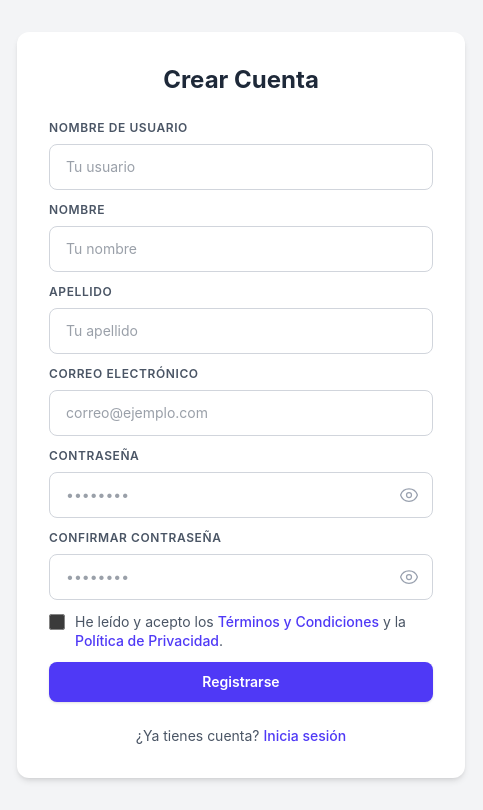
Test case: RegisterPage › exige aceptar los terminos para registrarse
Type "pepin" into the field labelled "Nombre de usuario" at (241, 167), box [49,144,433,190]
Type "Pepe" into the field labelled "Nombre" at (241, 249), box [49,226,433,272]
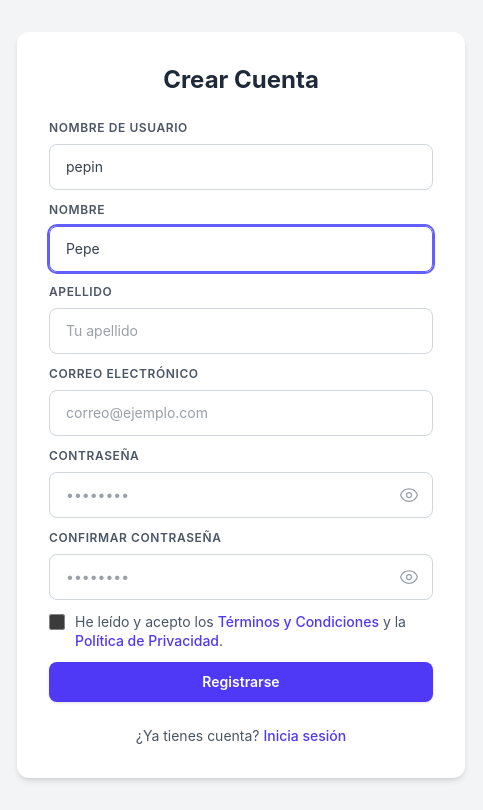
Type "Perez" into the field labelled "Apellido" at (241, 331), box [49,308,433,354]
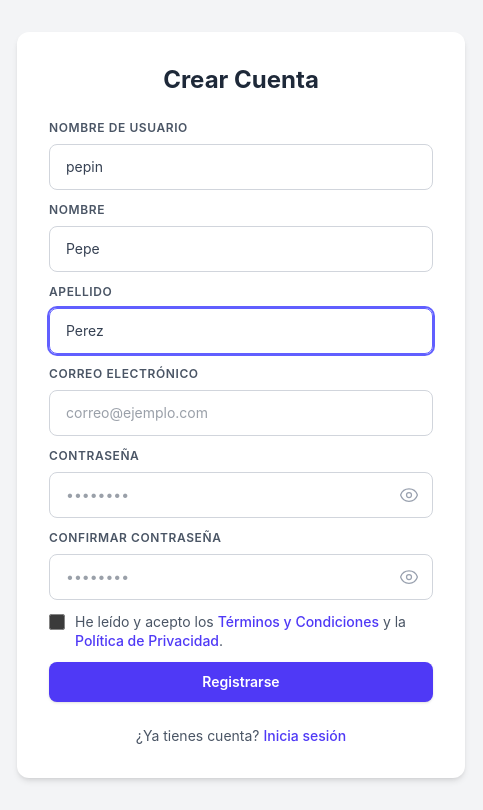
Type "pepe@example.com" into the field labelled "Correo electrónico" at (241, 413), box [49,390,433,436]
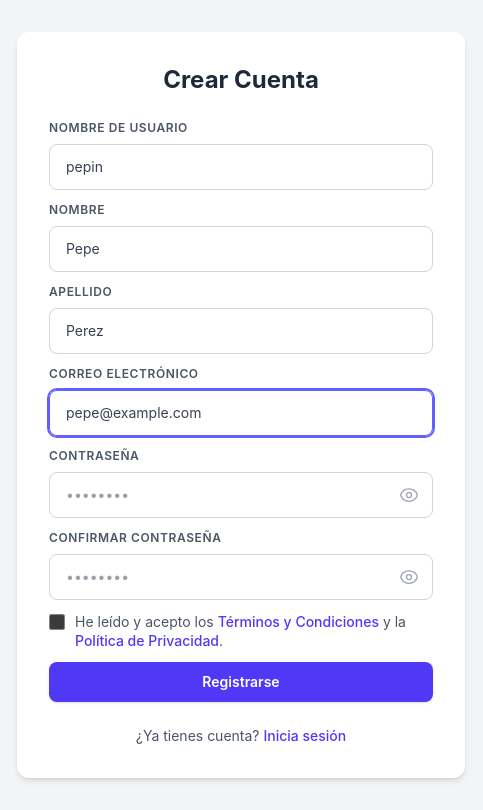
Type "clave123" into the password field labelled "Contraseña" at (241, 495), box [49,472,433,518]
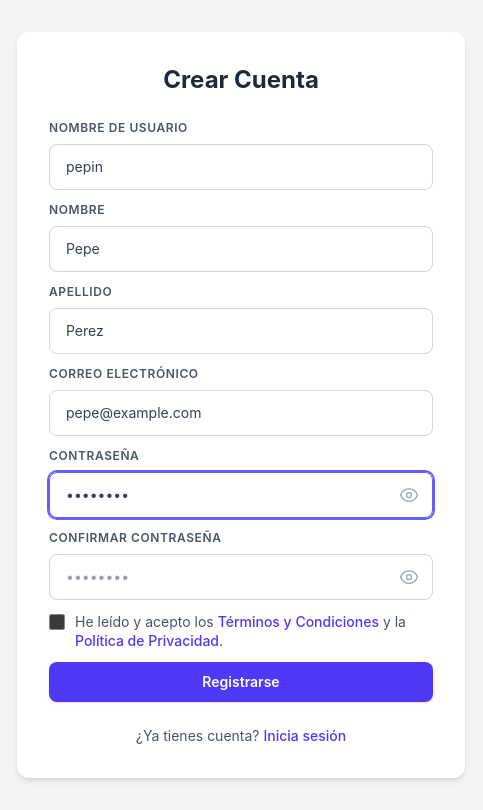
Type "clave123" into the password field labelled "Confirmar contraseña" at (241, 577), box [49,554,433,600]
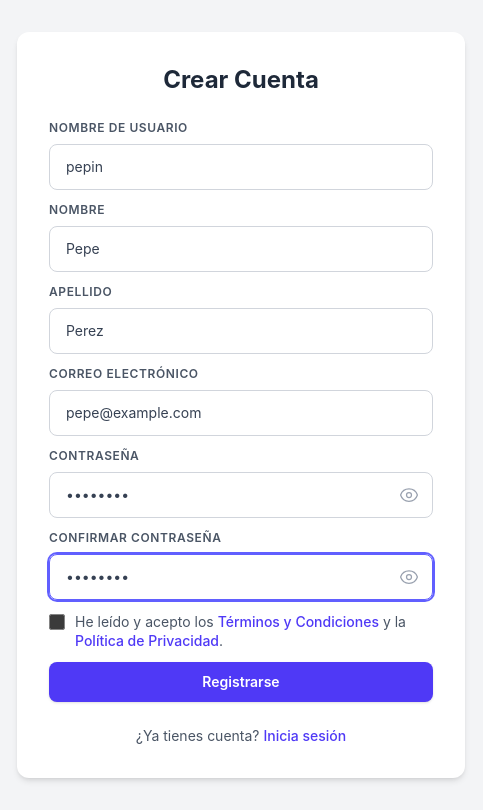
Click the button "Registrarse" at (241, 682), box [49,662,433,702]
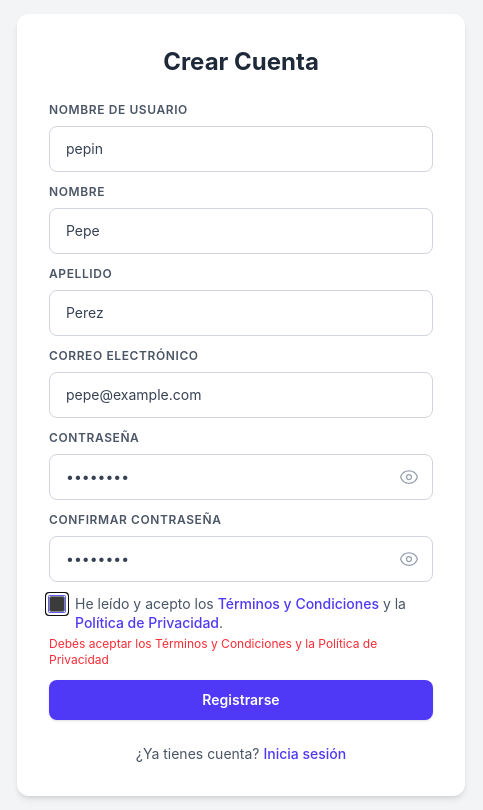
Check: the text "Debés aceptar los Términos y Condiciones y la Política de Privacidad" is shown, box [49,636,433,668]
